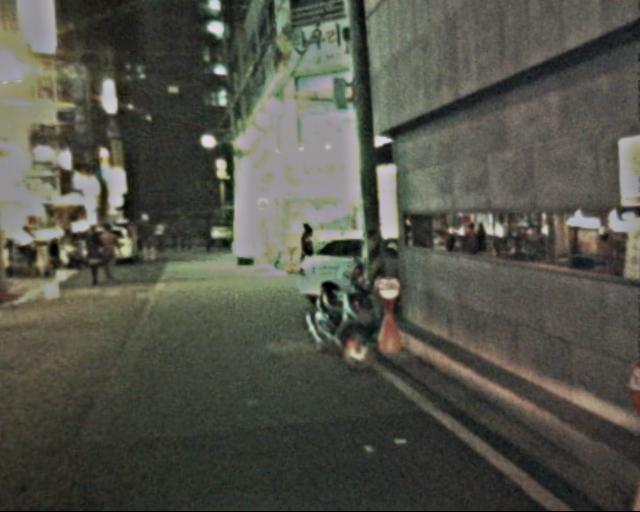person: (129, 217, 206, 255), (98, 220, 127, 282), (290, 221, 319, 282), (84, 220, 110, 281)
